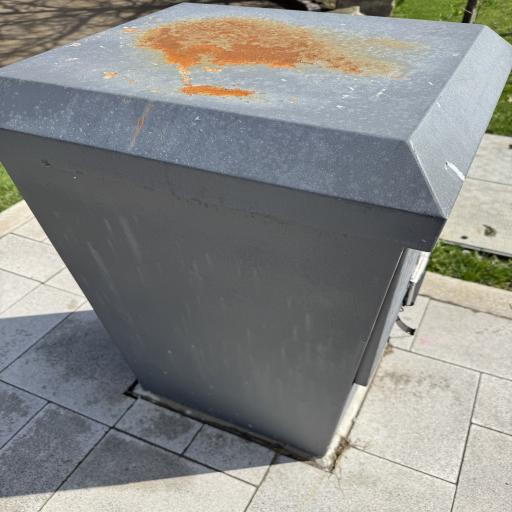Electrical Box: (0, 2, 512, 456)
